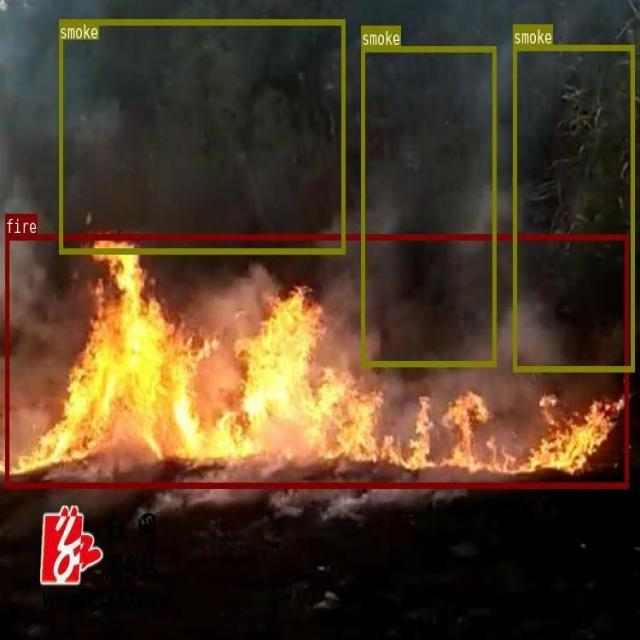fire: (5, 233, 628, 487)
smoke: (59, 18, 344, 253), (361, 46, 495, 365), (512, 44, 634, 371)
